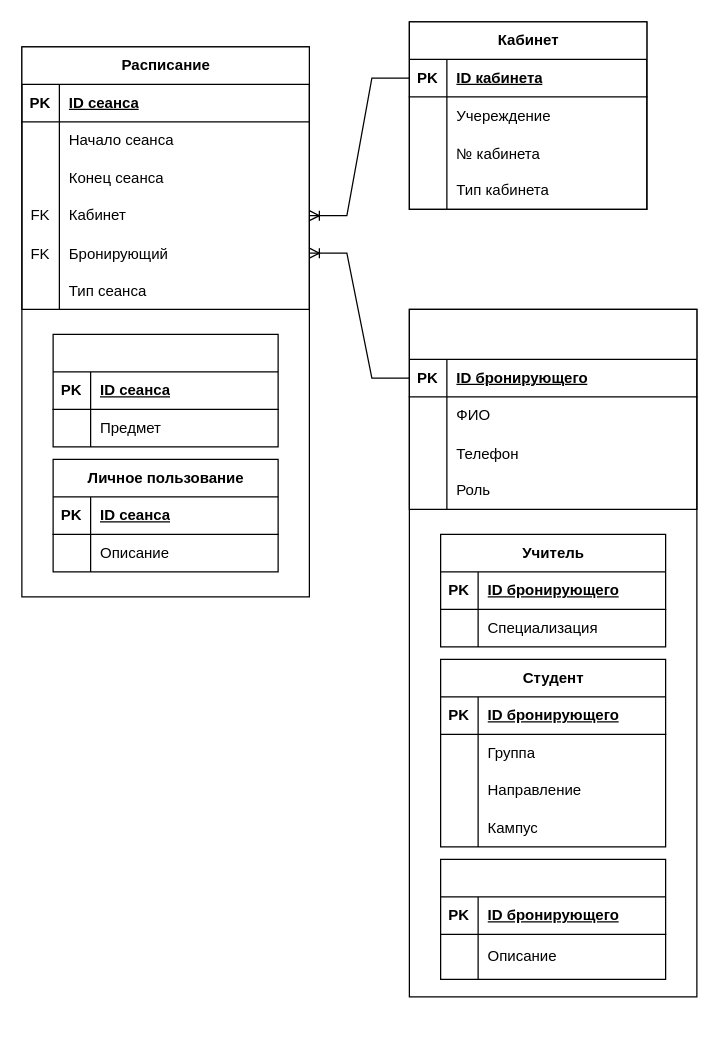
Image size: 719x1044. Some labels were removed from this diagram. Each missing label, with the box of its shape:
Гость: (439, 858, 666, 979)
Люди (бронировали / бронируют): (408, 308, 697, 509)
Учебное занятие: (52, 333, 278, 447)
